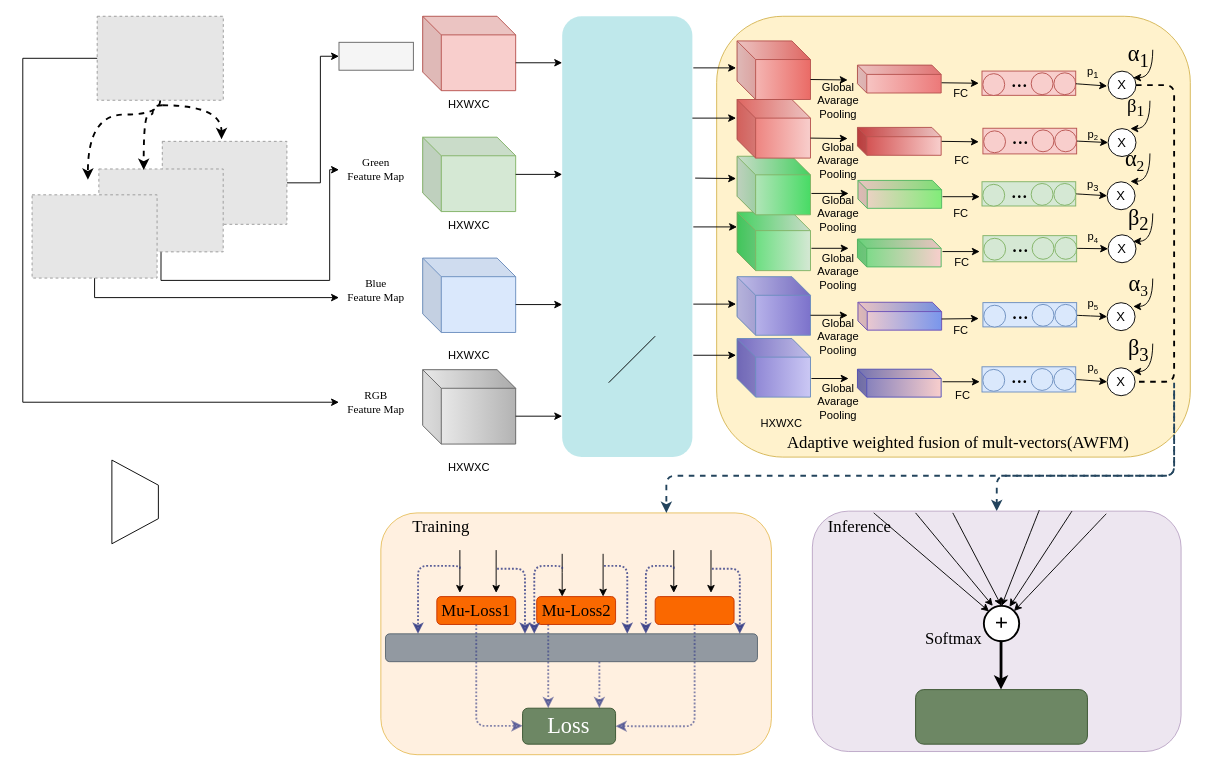
Image size: 1207x771. Some labels were removed from this diagram. Grey dashed boxes stand in for pictures. Here are the shapes that lost their labels. From the top down, the centre of each, then its label:
(x=375, y=55): CNN
(x=627, y=236): Channel Self- Attention Fusion Module
(x=694, y=610): Mu-Loss3
(x=571, y=647): CELoss
(x=1001, y=716): classification
